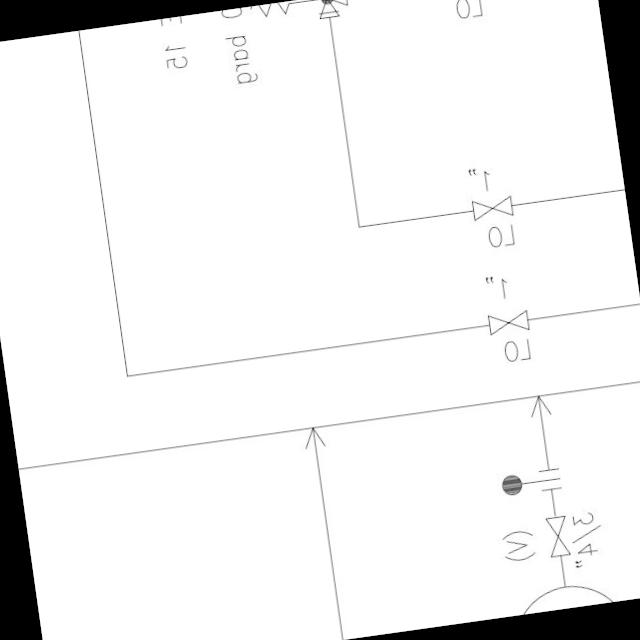GV: (538, 510, 576, 564), (482, 305, 537, 342), (467, 191, 518, 225)
RPV: (242, 0, 354, 32)
